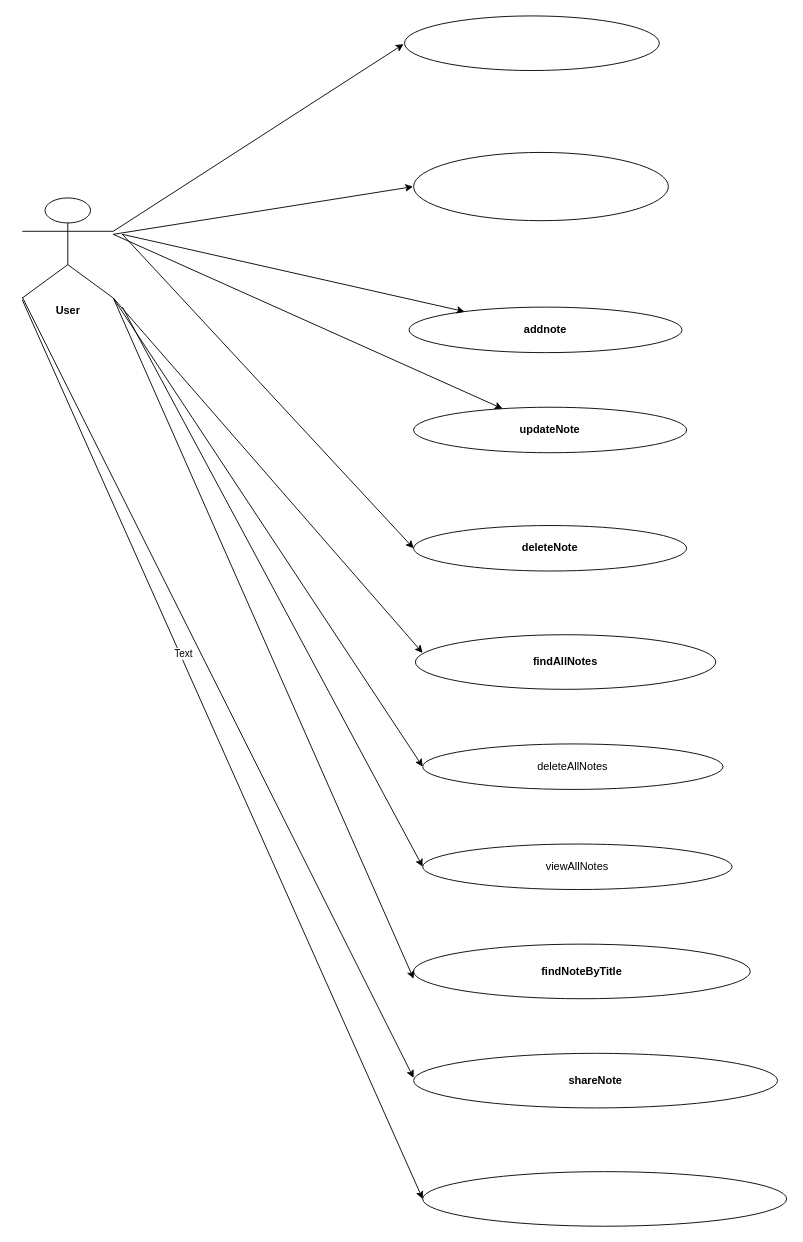
Image size: 803x1242. Some labels were removed from this diagram. Here are the shapes that lost their labels. From the top down, the box of each, then its label:
(404, 15, 659, 71): registration
(413, 152, 668, 221): login
(422, 1171, 787, 1226): unshareNote
